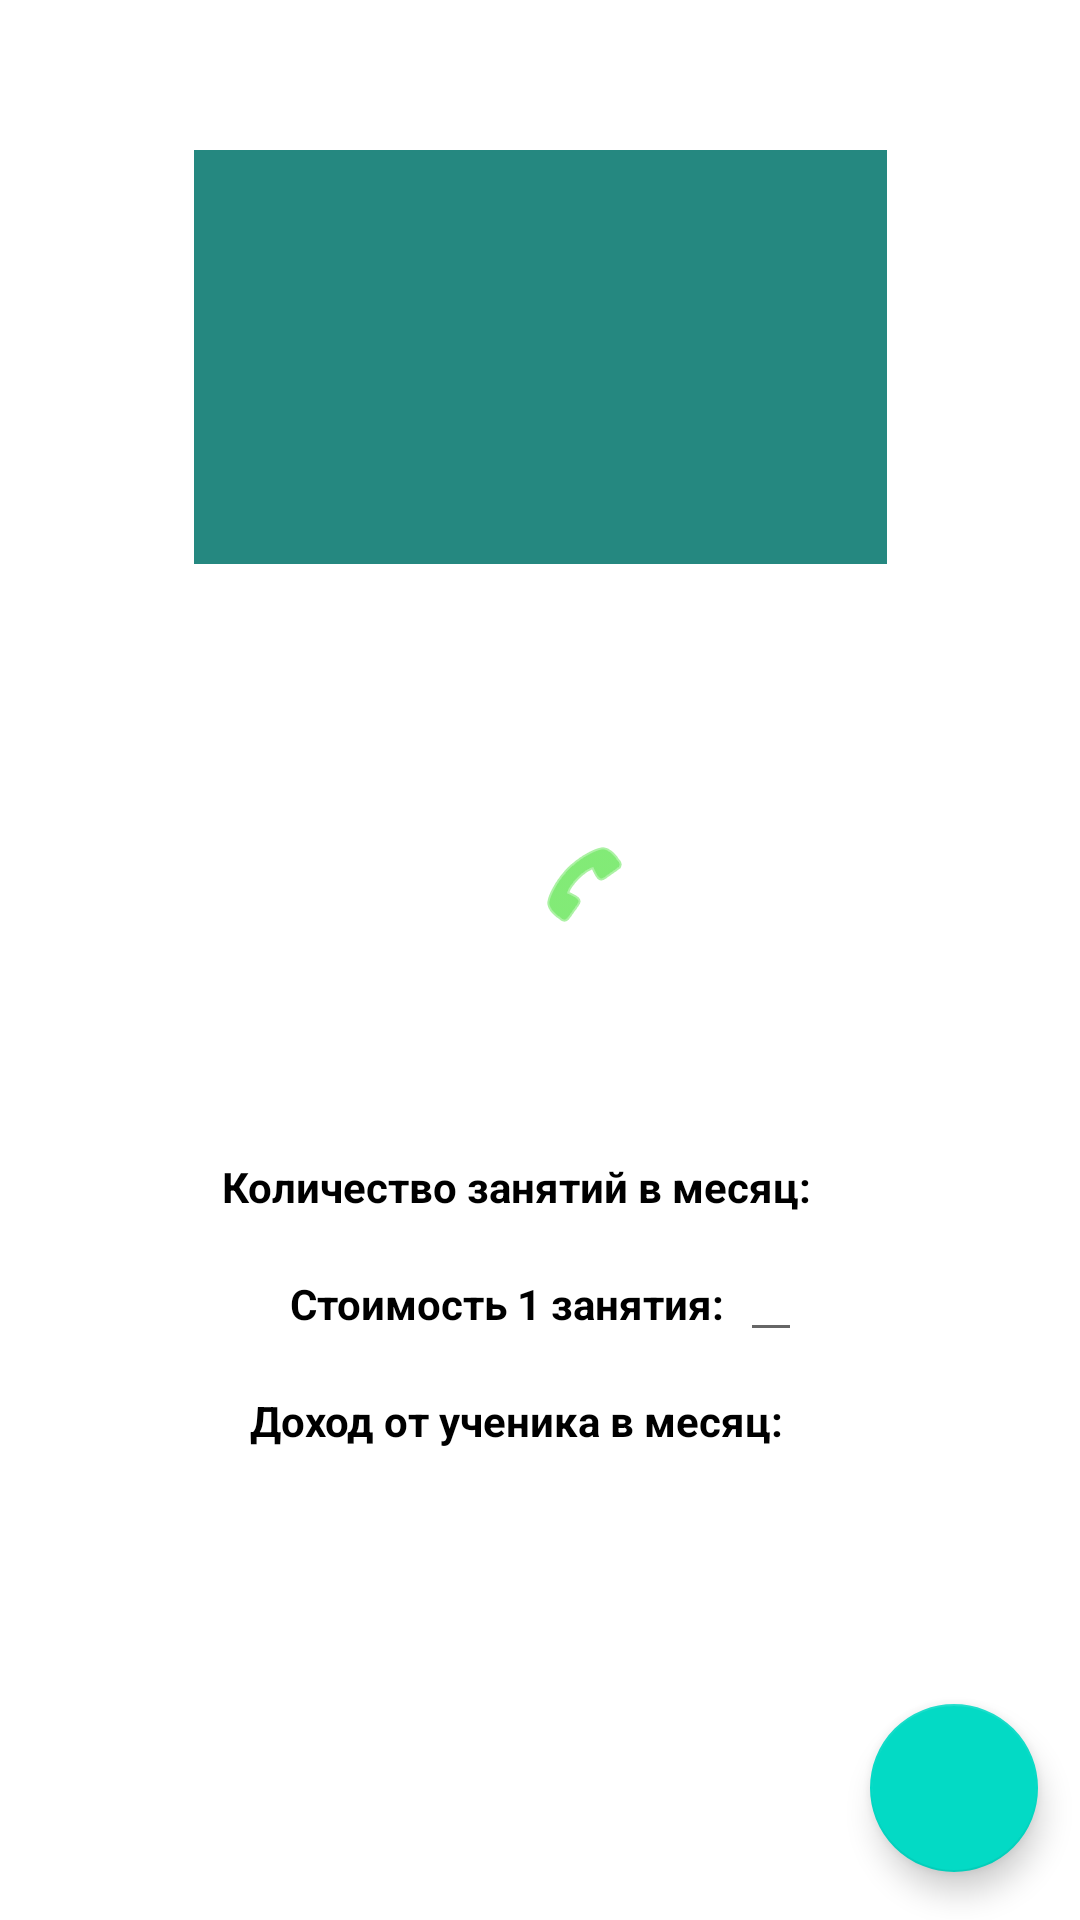

Where icons sit on this 1080 × 1920 app screen, as (x1, y1, x2, y2):
call: (547, 847, 622, 922)
